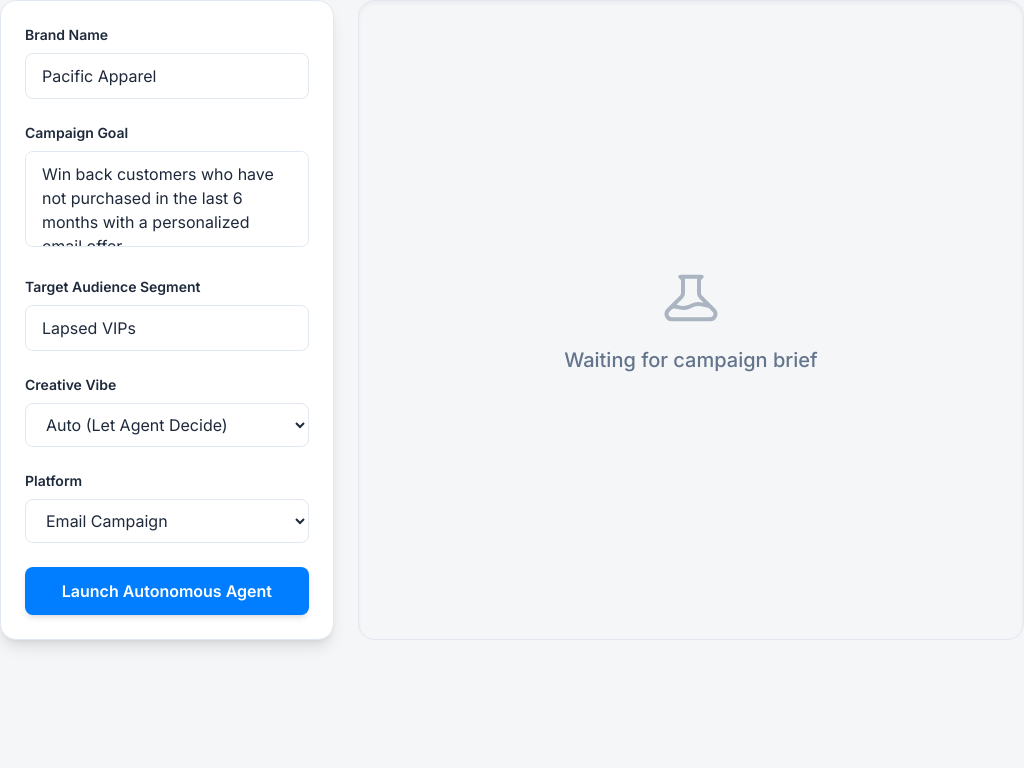
Test: CreativeStudioWorkspace › shows error state when generation fails
The image size is (1024, 768).
Step 1. Replace the text in the field with placeholder "e.g., Nexus Athletics" with "Test Brand" → (167, 76), box top-left (25, 53), bottom-right (309, 99)
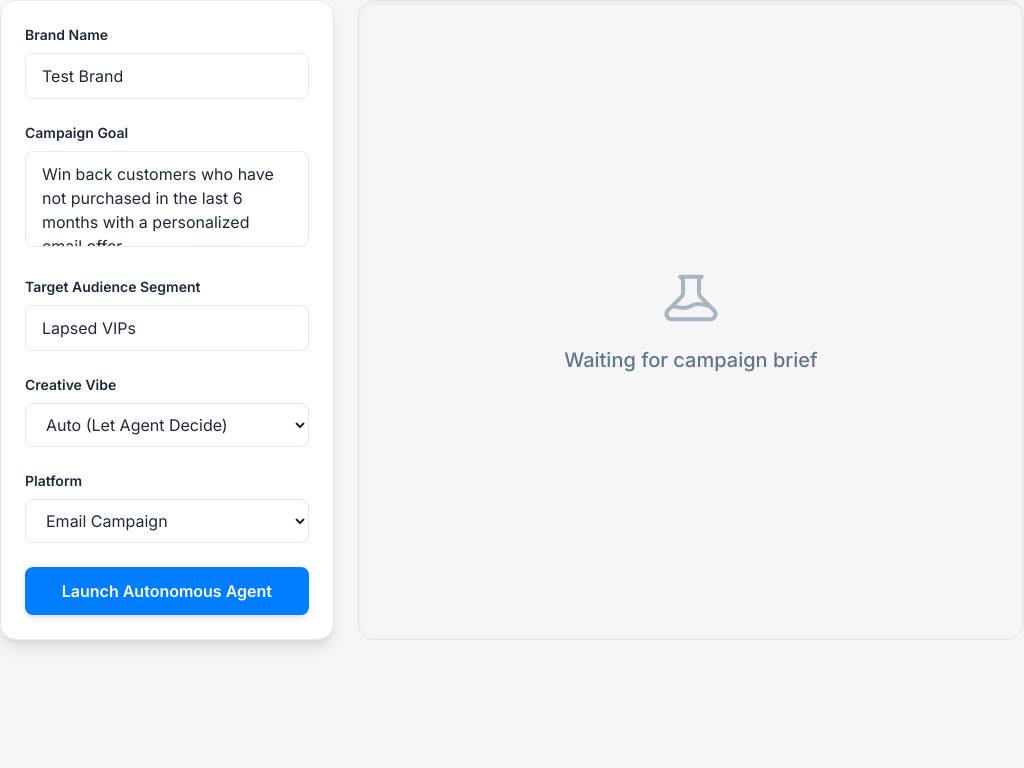
Step 2. Replace the text in the text box with placeholder "Win back customers" with "Test Goal" → (167, 199), box top-left (25, 151), bottom-right (309, 247)
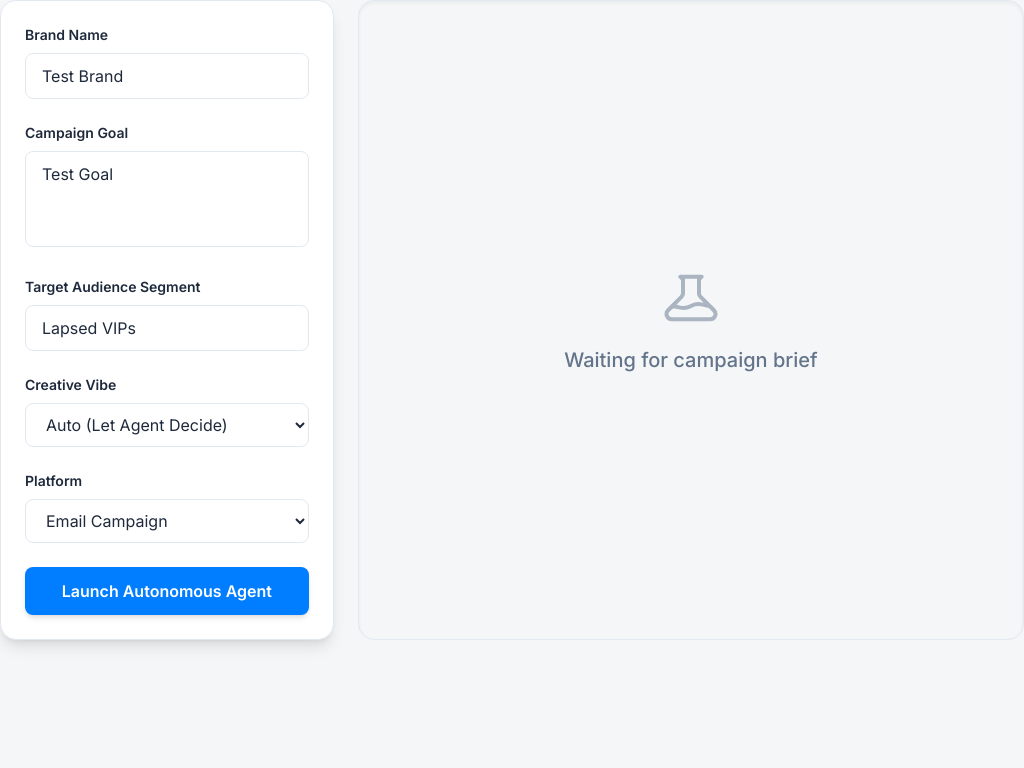
Step 3. Replace the text in the field with placeholder "e.g., Lapsed VIPs" with "Test Audience" → (167, 328), box top-left (25, 305), bottom-right (309, 351)
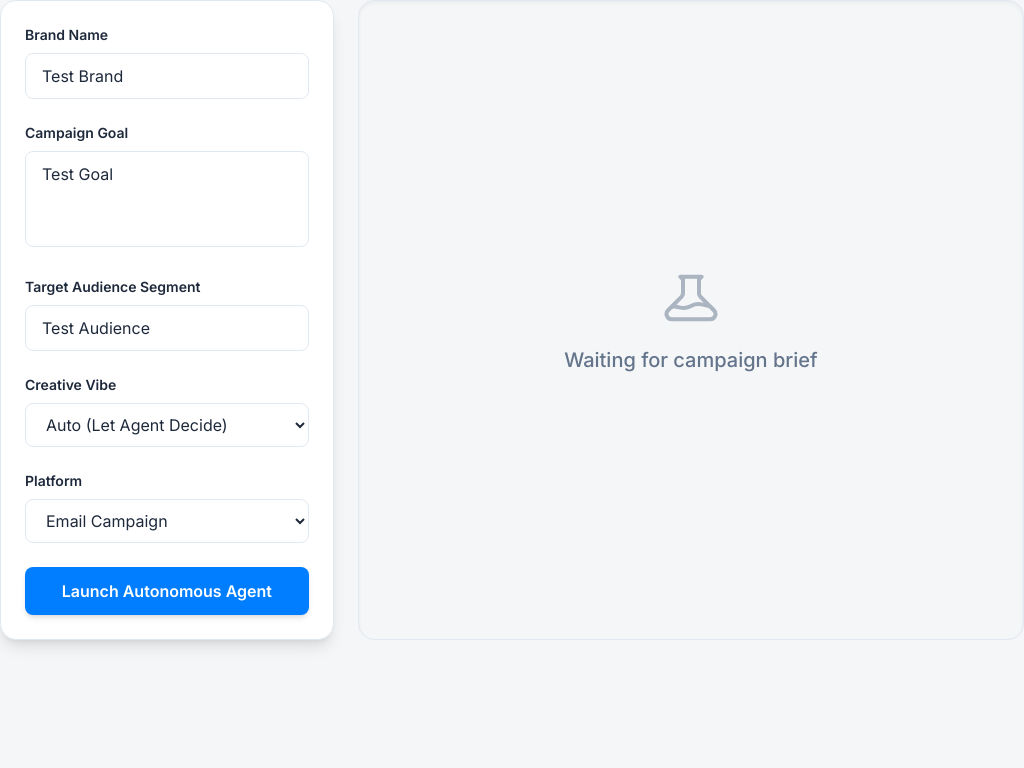
Step 4. Click the button "Launch Autonomous Agent" → (167, 591), box top-left (25, 567), bottom-right (309, 615)
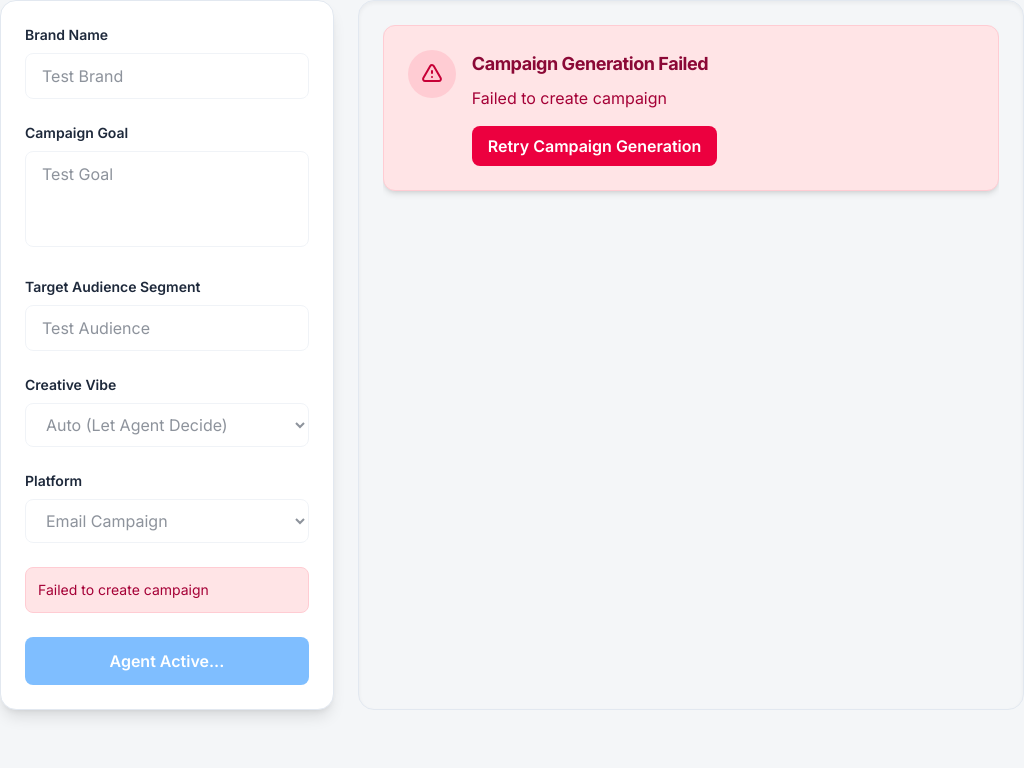
Now the text "Failed to create campaign" is shown 2 times, box top-left (25, 567), bottom-right (309, 613); top-left (472, 88), bottom-right (667, 108)
